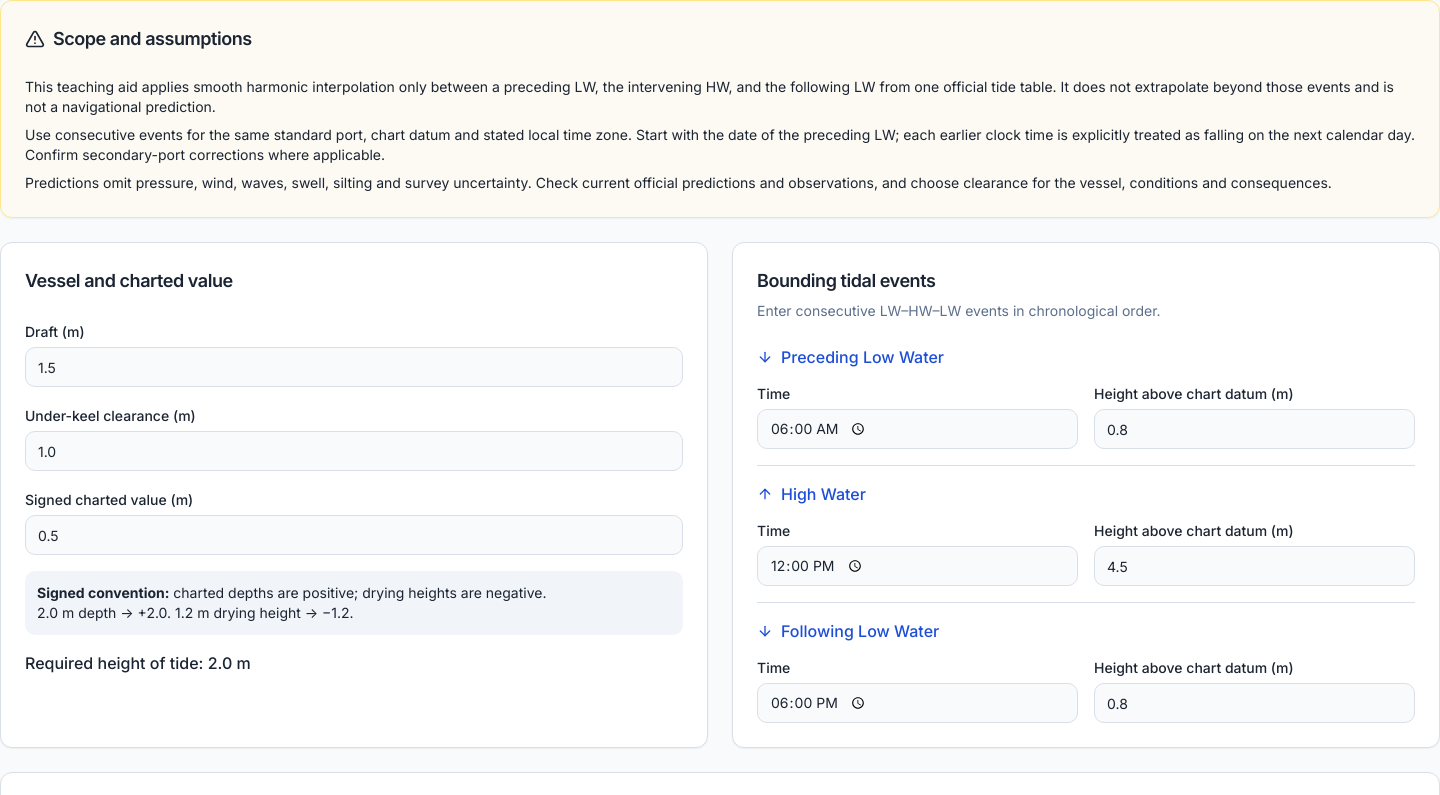
Test: TidalPassageCalculator rendering contract › shows a non-five-minute equality as one exact boundary
Step 1. Replace the text in the time field with id "high-time" with "12:02" → (918, 566), box [757,546,1078,586]
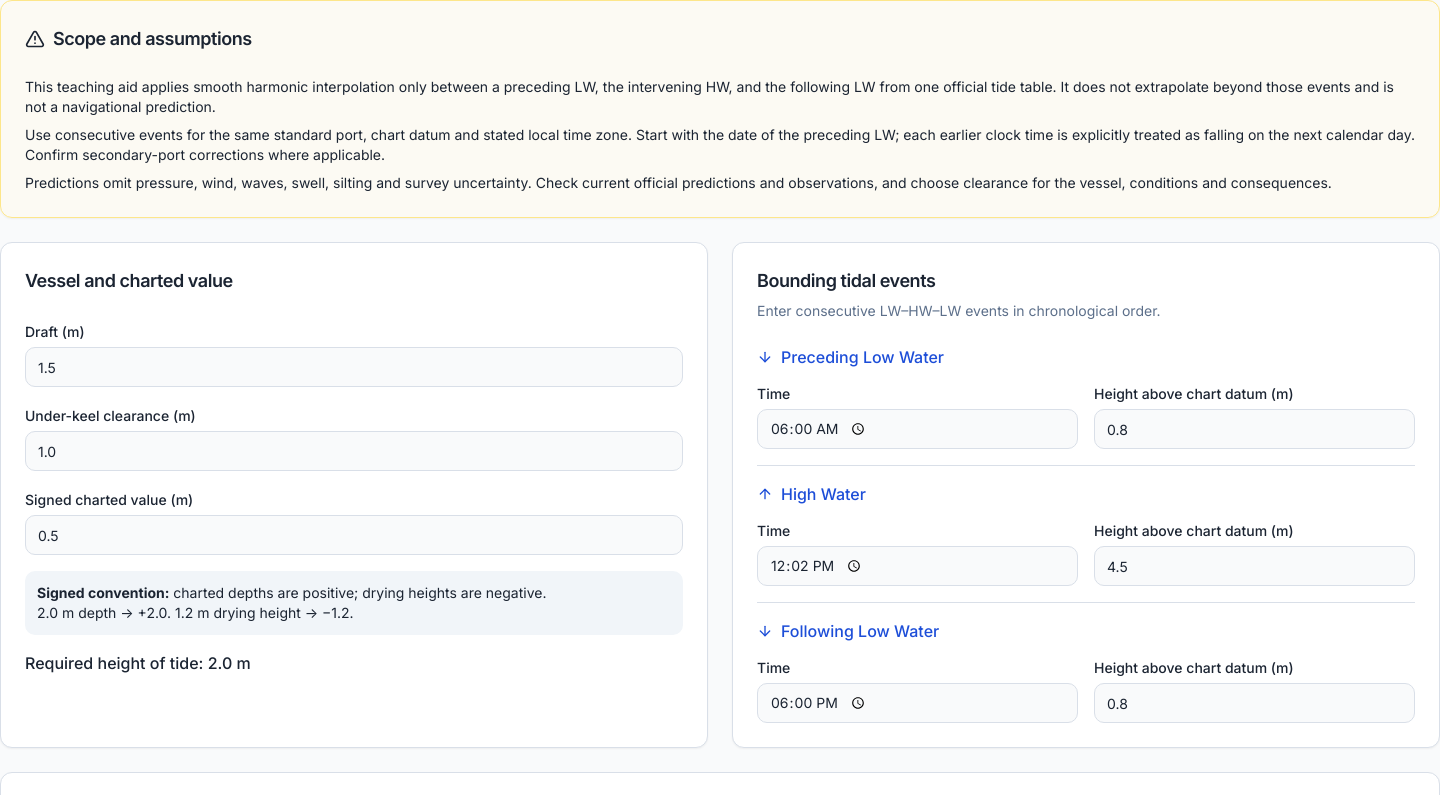
Step 2. Replace the text in the time field with id "followingLow-time" with "18:02" → (918, 703), box [757,683,1078,723]
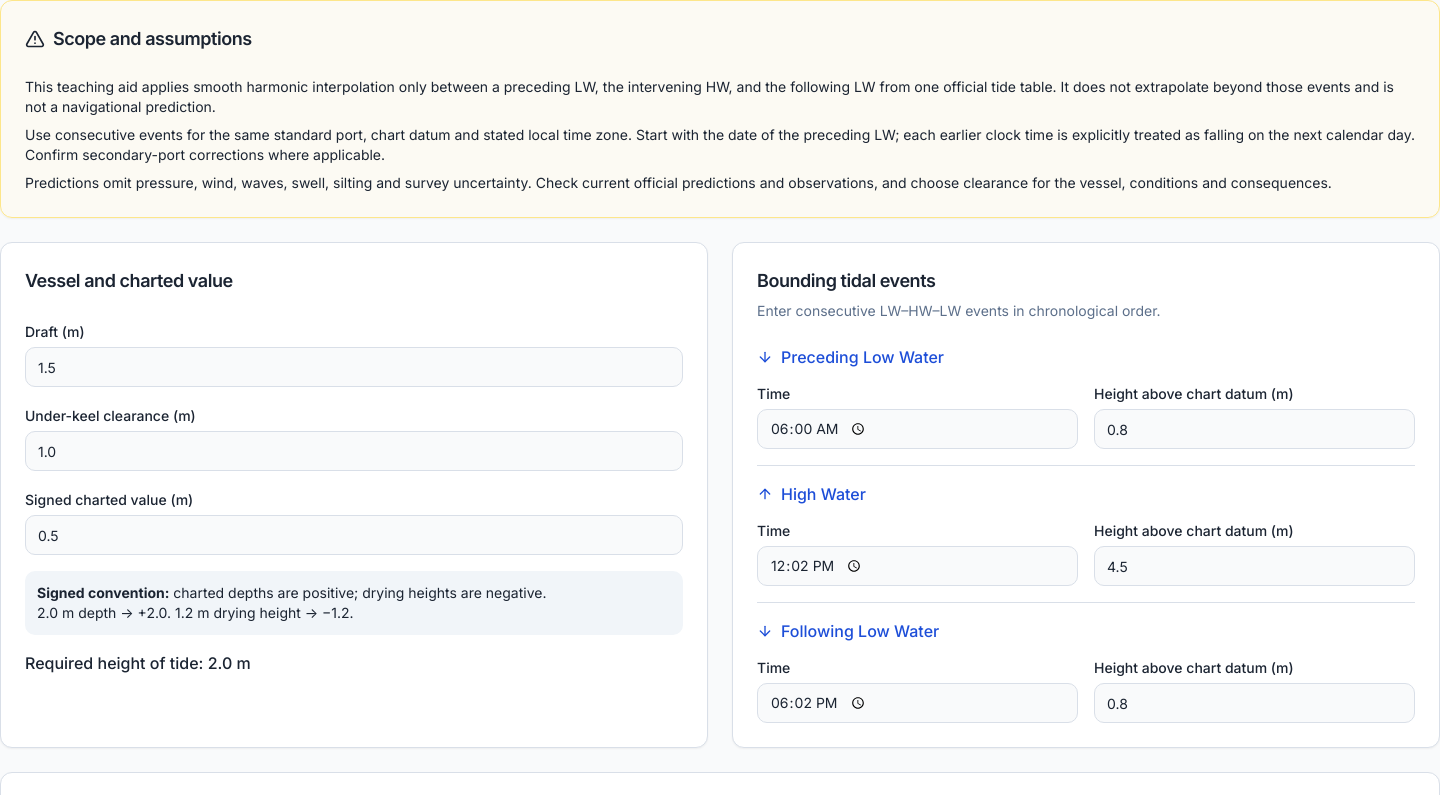
Step 3. Replace the text in the number field with id "draft" with "3.5" → (354, 367), box [25,347,683,387]
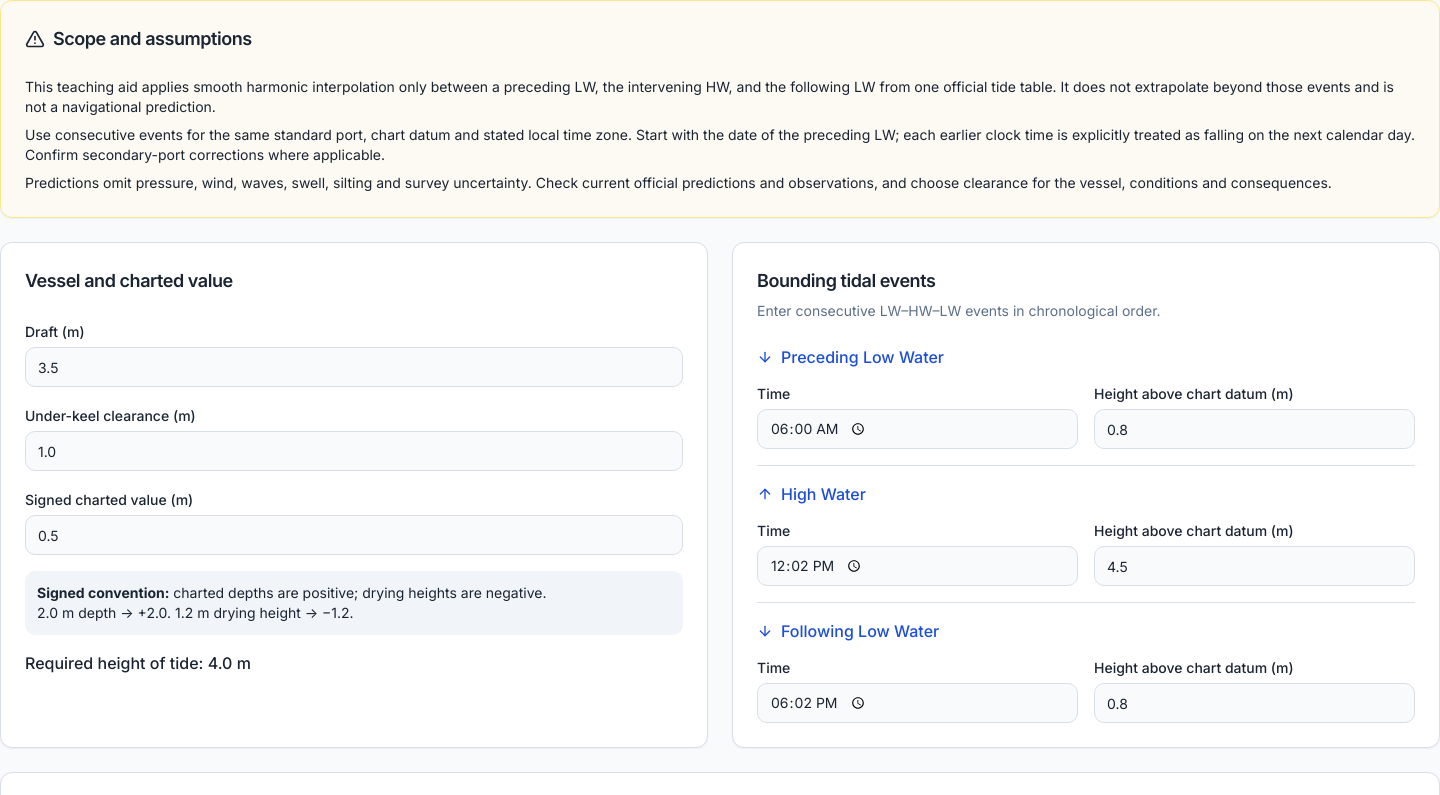
Step 4. Replace the text in the number field with id "clearance" with "1" → (354, 451), box [25,431,683,471]
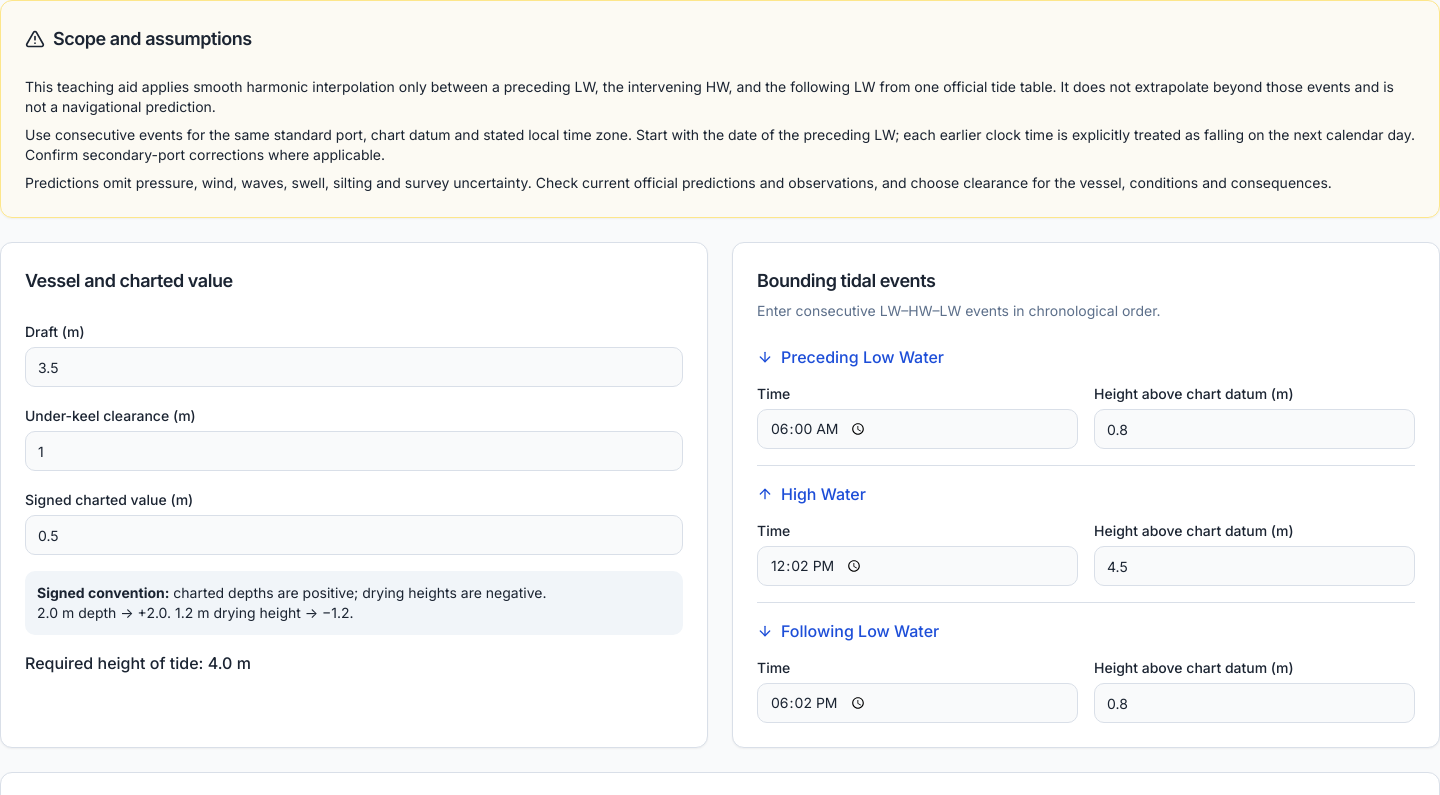
Step 5. Replace the text in the number field with id "chartedDepth" with "0" → (354, 535), box [25,515,683,555]
(page scrolled)
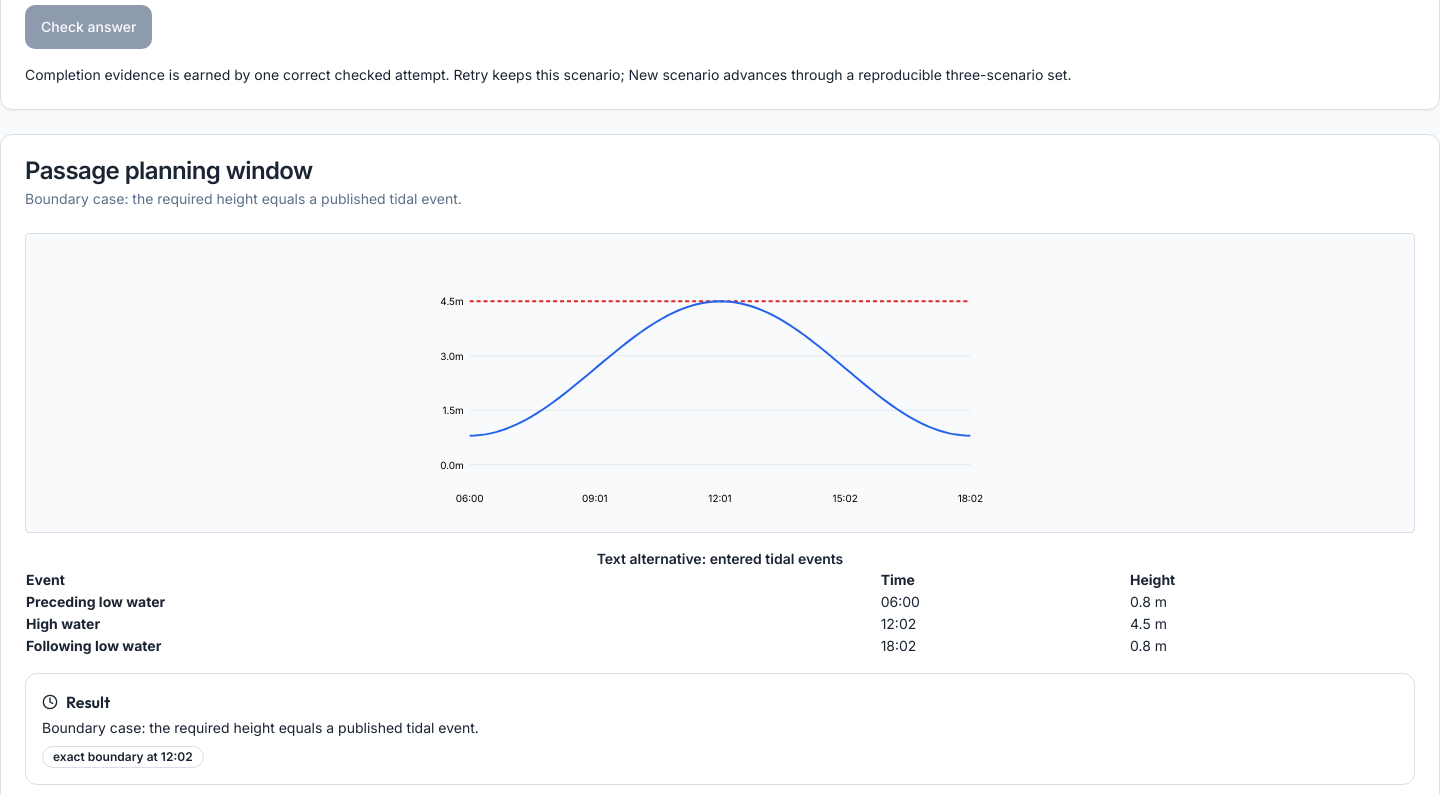
Expected: the text "exact boundary at 12:02" is shown, [42,746,204,768]
